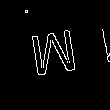M_S: (29, 28, 82, 86)
